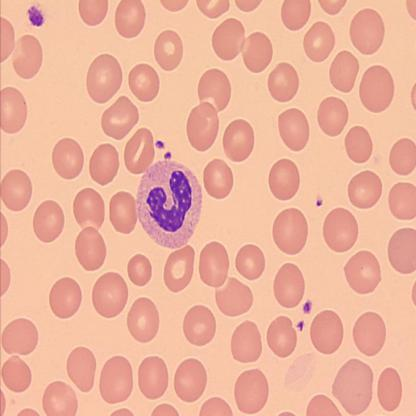Band Neutrophil: (136, 155, 204, 251)
